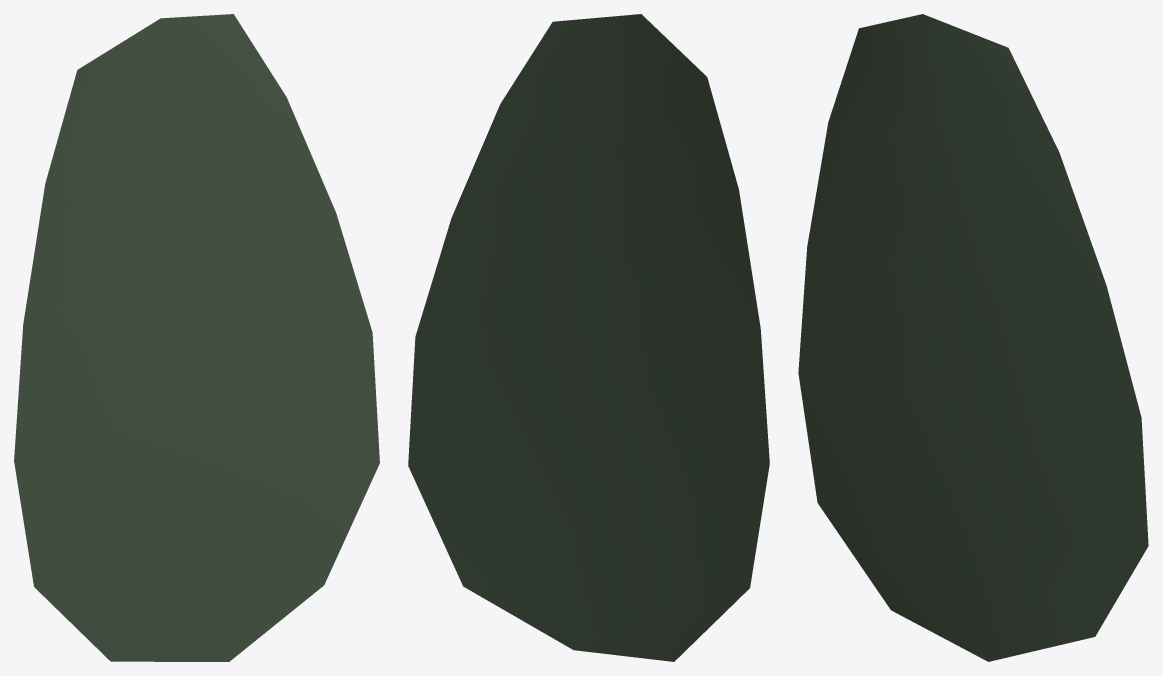
The model's file is duck_feather_flight_tertiary_012.obj.
The picture shows the model from 3 angles, left to right: view 1: azimuth 30°, elevation 25°; view 2: azimuth 150°, elevation 25°; view 3: azimuth 330°, elevation 25°; orthographic projection. The views are drawn at different scales.
Parts seen in each view (by area): view 1: feather_flight_tertiary_012; view 2: feather_flight_tertiary_012; view 3: feather_flight_tertiary_012.
Boxes of the visible parts, x1,y1,x2,y2 form: feather_flight_tertiary_012: (14, 14, 379, 661); feather_flight_tertiary_012: (408, 14, 769, 661); feather_flight_tertiary_012: (798, 14, 1148, 661).
Size of the model in its own units: 0.016 by 0.0276 by 0.000632.
